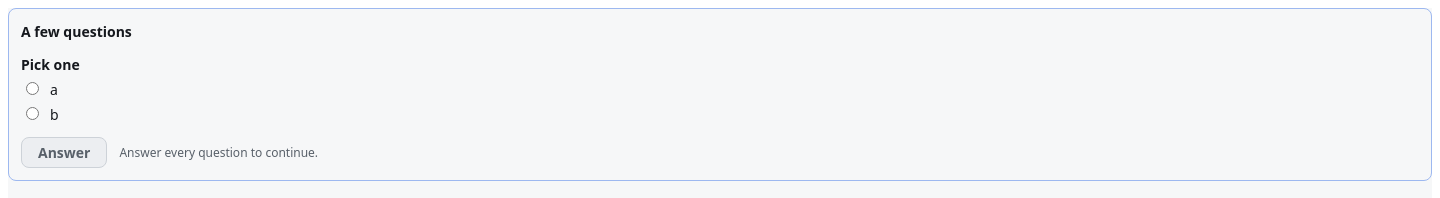
QuestionCard › shows a question with no default as unanswered and blocks the submit
Check: the button "Answer" is disabled, box [21,137,107,168]
Click the radio button labelled "b": (32, 114) [26,107,39,120]
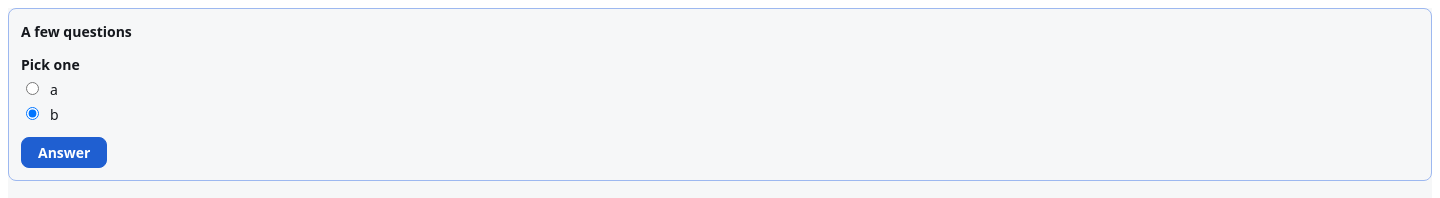
Check: the button "Answer" is enabled, box [21,137,107,168]
